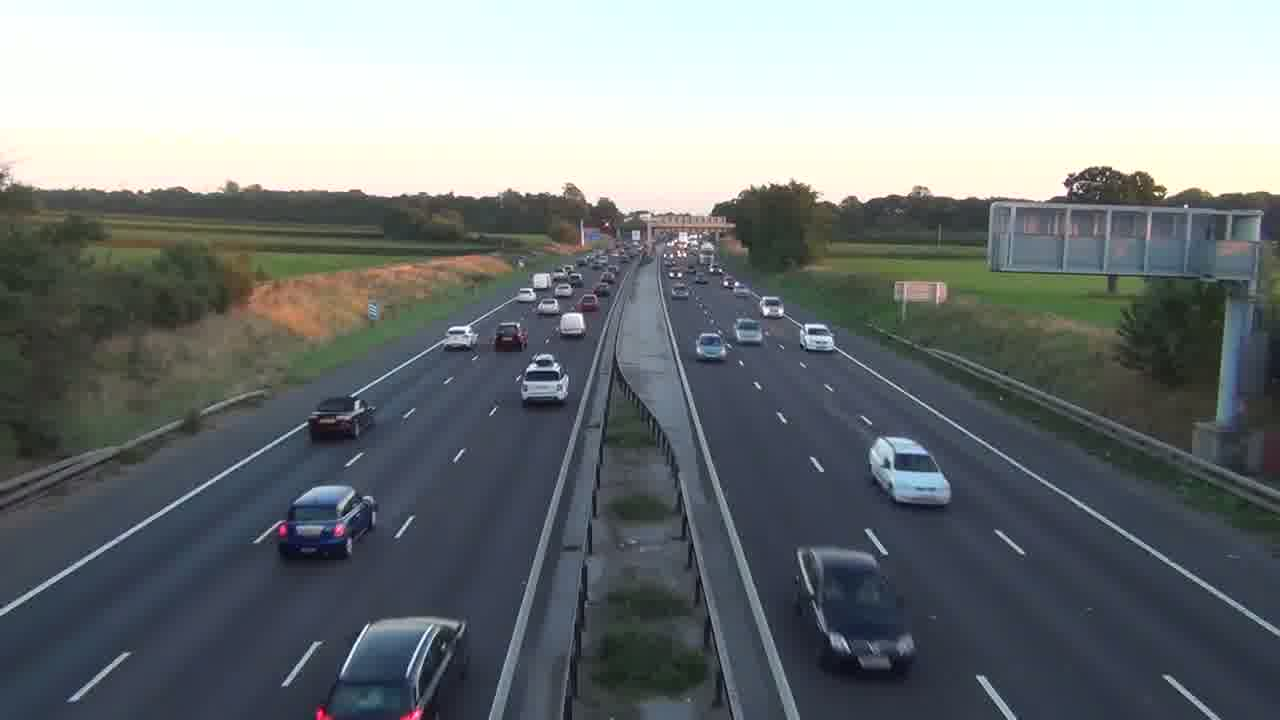car: (793, 545, 918, 676), (314, 615, 467, 719), (275, 483, 377, 559), (867, 435, 952, 507), (308, 395, 375, 441), (518, 363, 569, 405), (799, 322, 836, 352), (695, 332, 728, 362), (734, 317, 764, 345), (559, 311, 586, 338)
